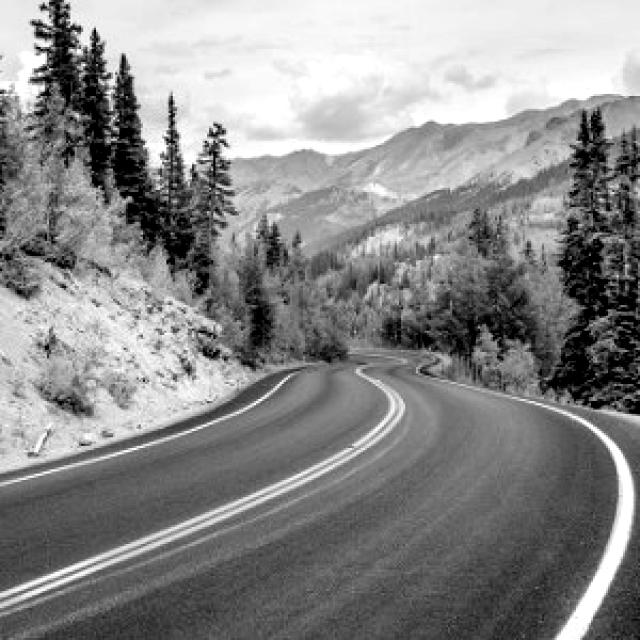cleat: (130, 210, 640, 640)
